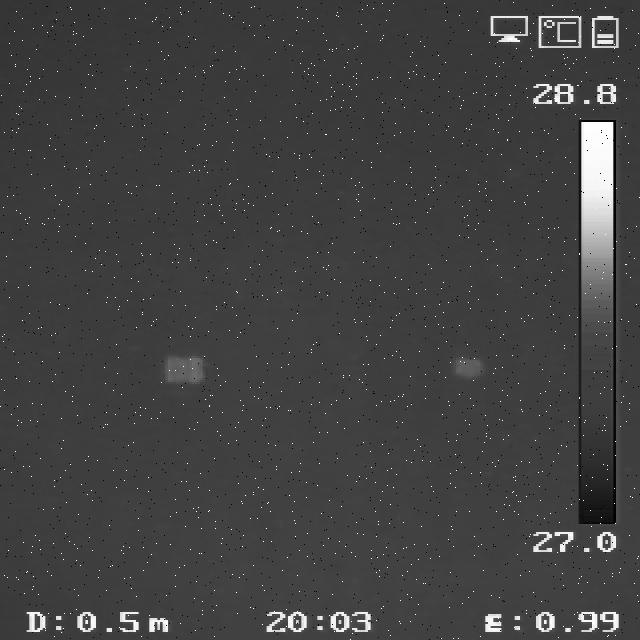Indistinguishable 4-bar target: (163, 357, 205, 385), (451, 354, 485, 378)
